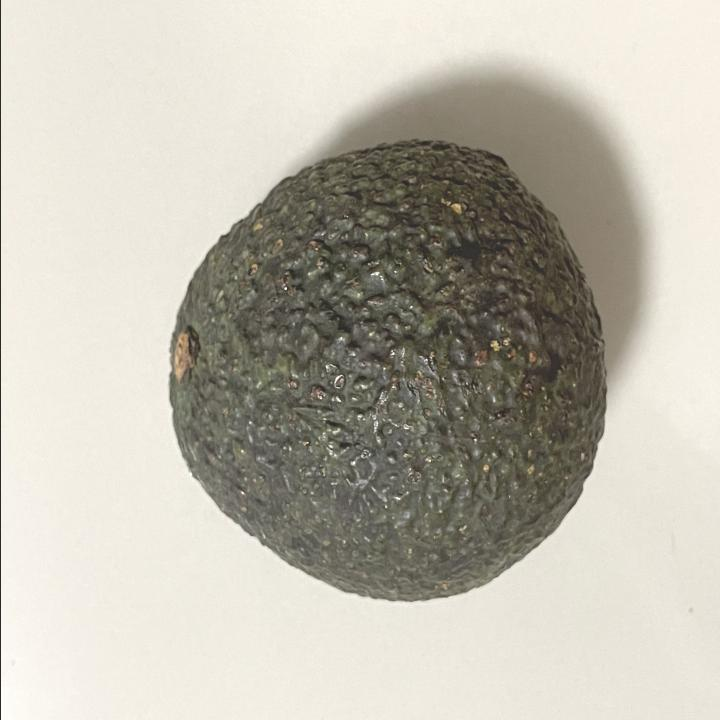Level1: (145, 122, 619, 624)
